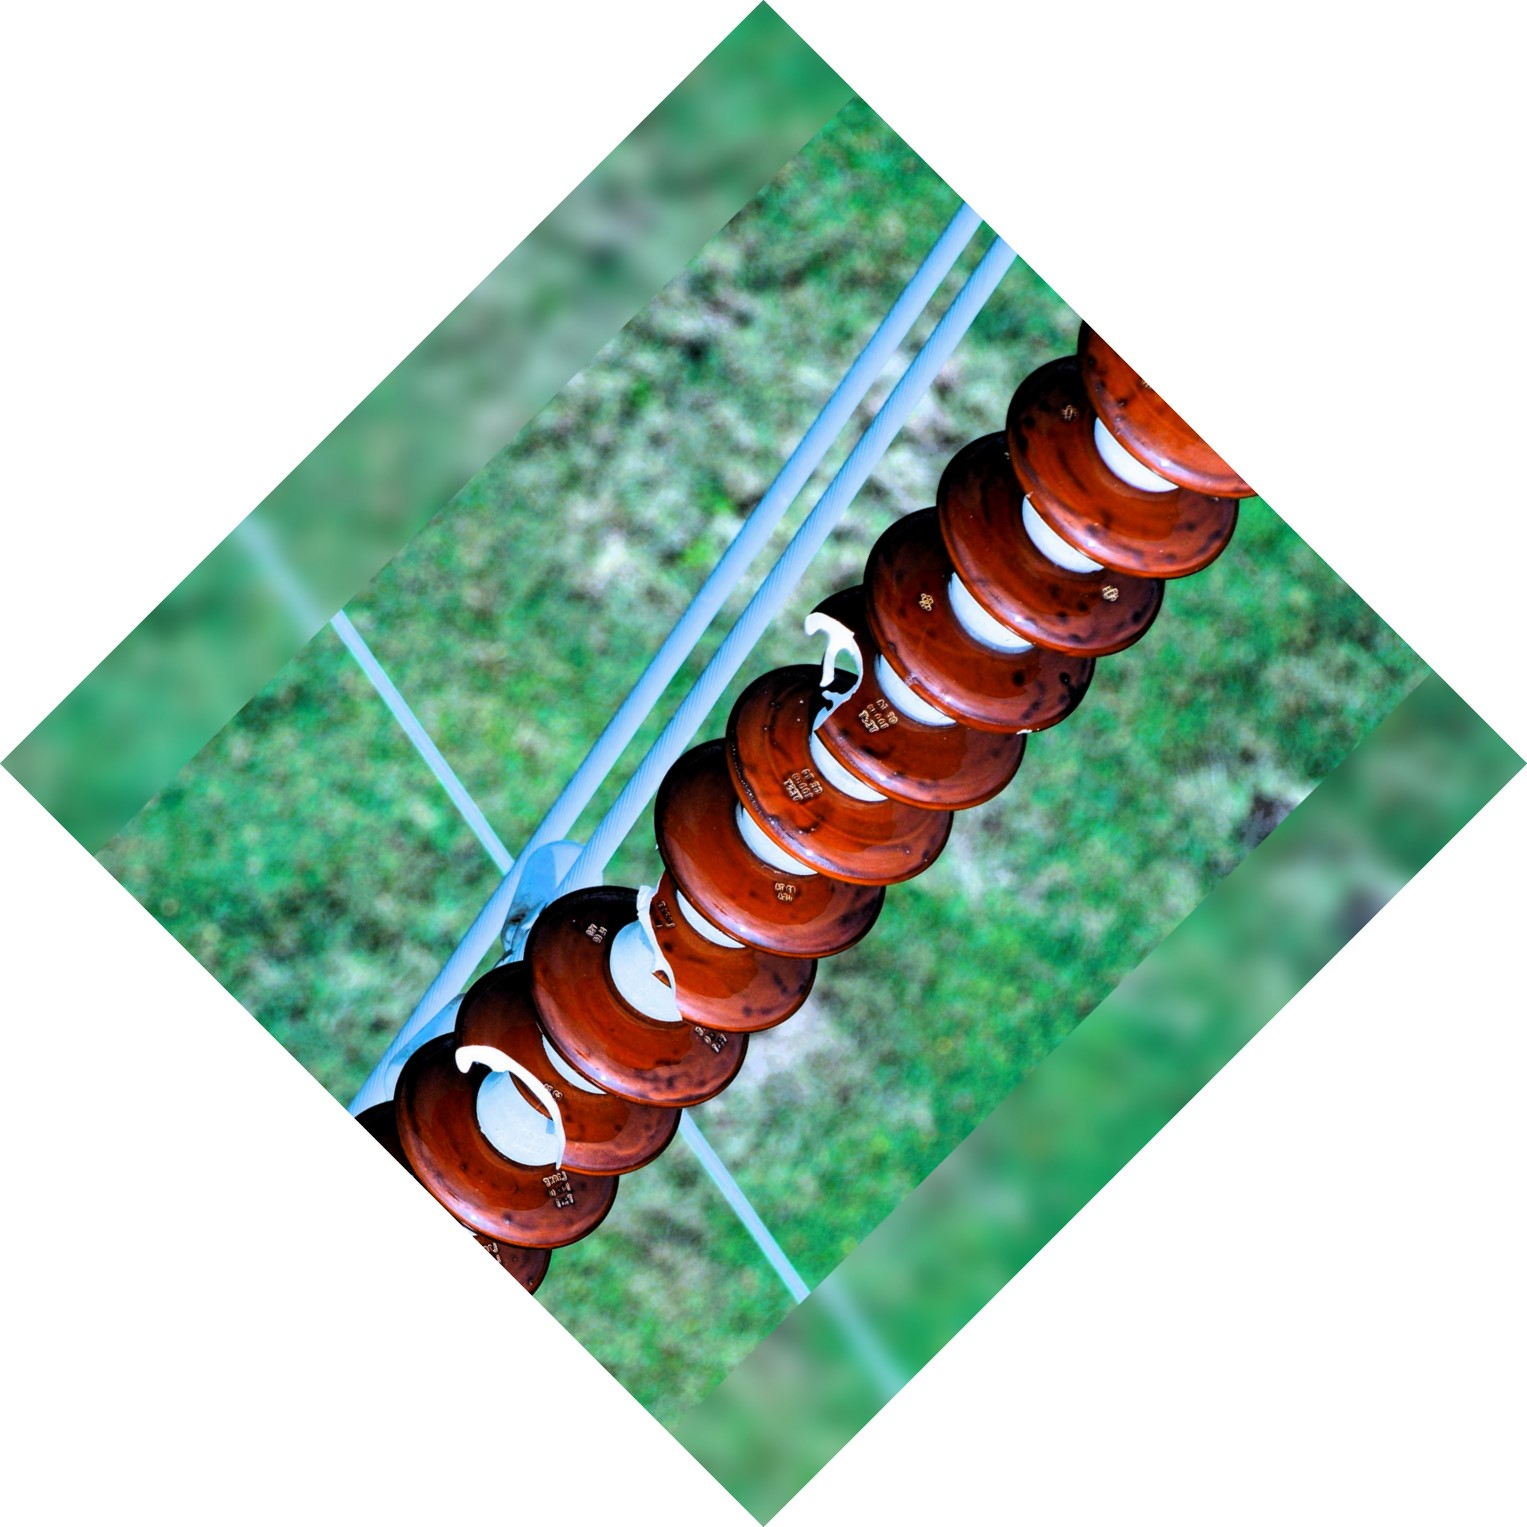insulator breakage: (768, 583, 1032, 822), (605, 845, 839, 1040), (428, 975, 628, 1176)
